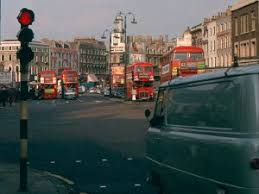signal: (16, 7, 36, 64)
